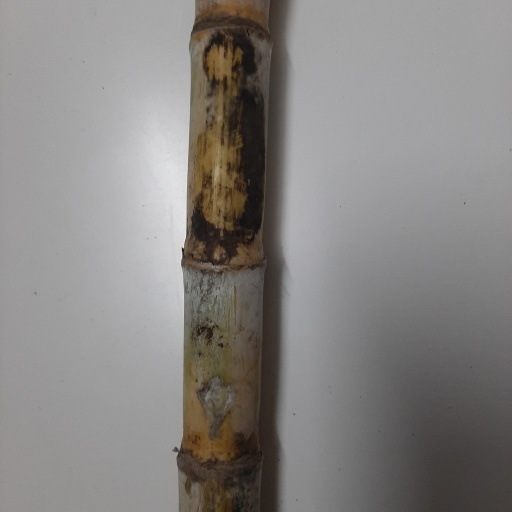Bud: (210, 246, 230, 266)
